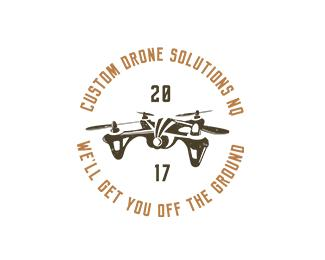drone: (88, 109, 237, 170)
